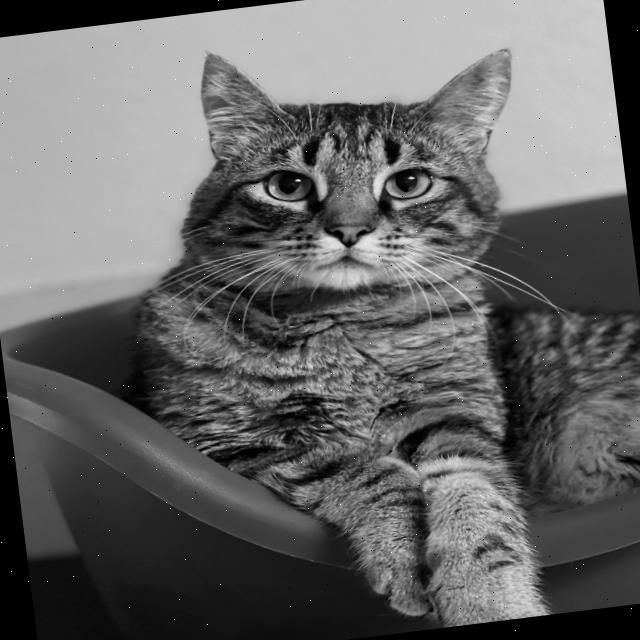american_shorthair_cat: (156, 12, 544, 332)
